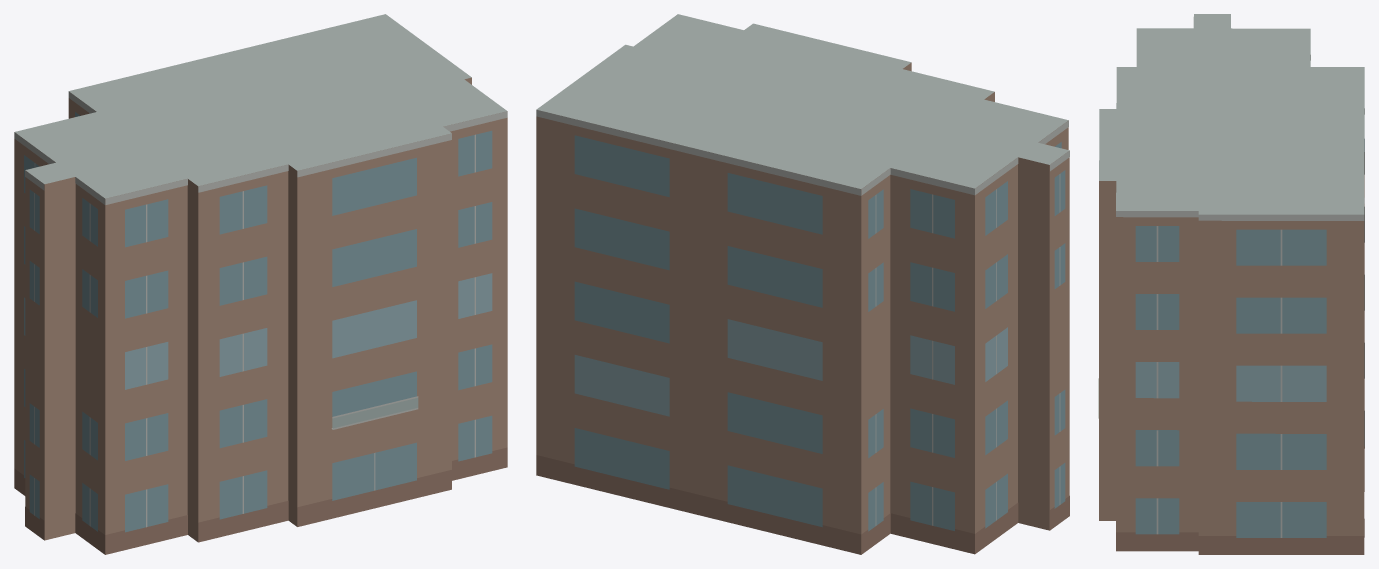
The model's file is survey-upis-32870322.glb.
3 views of the same model, side by side, from view 1: azimuth 30°, elevation 25°; view 2: azimuth 150°, elevation 25°; view 3: azimuth 270°, elevation 25° (orthographic). The views are drawn at different scales.
Visible parts, largest first — view 1: survey-upis-32870322.tmp; view 2: survey-upis-32870322.tmp; view 3: survey-upis-32870322.tmp.
Part boxes in pixels (x1=…): survey-upis-32870322.tmp: x1=14, y1=14, x2=507, y2=554; survey-upis-32870322.tmp: x1=536, y1=14, x2=1069, y2=554; survey-upis-32870322.tmp: x1=1098, y1=14, x2=1364, y2=554.
Size of the model in its own units: 16.7 by 13.2 by 9.39.
